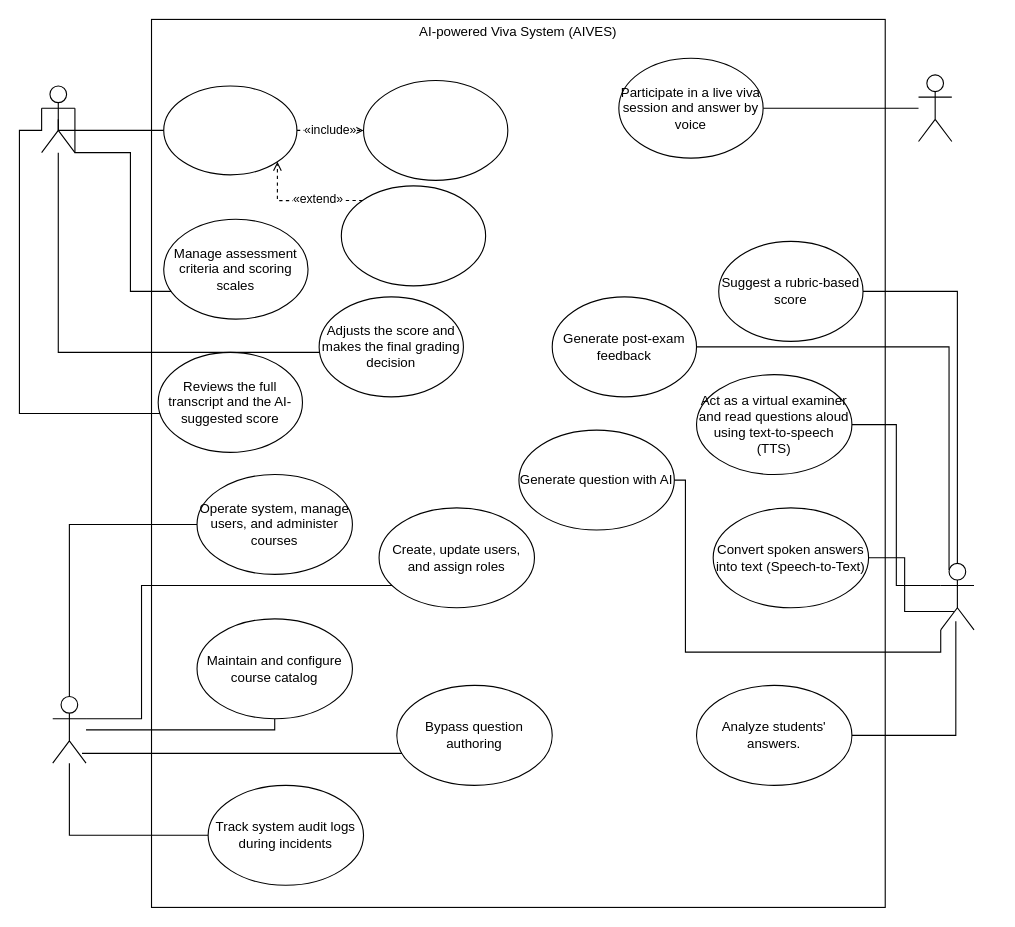
Image size: 1015x927. Some labels were removed from this diagram. The shapes that lost their labels are listed below. From the top down, each one's box as (x1, y1, x2, y2) in pixels, then its label:
(41, 85, 75, 153): Lecturer
(917, 74, 952, 142): Student
(163, 85, 297, 175): Create or import questions from multiple sources
(362, 79, 508, 180): Assign Bloom's taxonomy levels and link questions to the rubric
(340, 185, 486, 286): Review AI-generated questions
(940, 562, 974, 630): AI Services
(52, 695, 86, 763): Administrator
